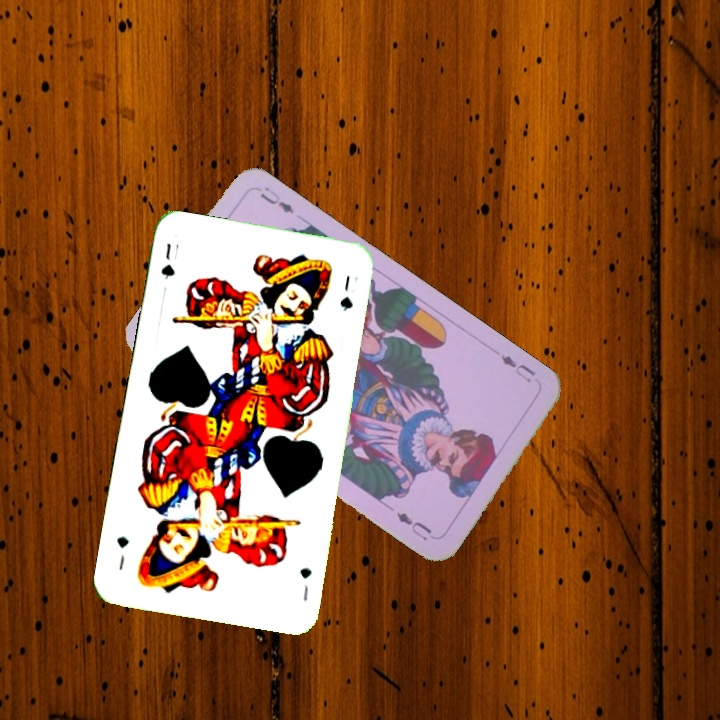EU: (496, 350, 539, 386)
GU: (157, 239, 178, 282), (296, 563, 314, 604)
